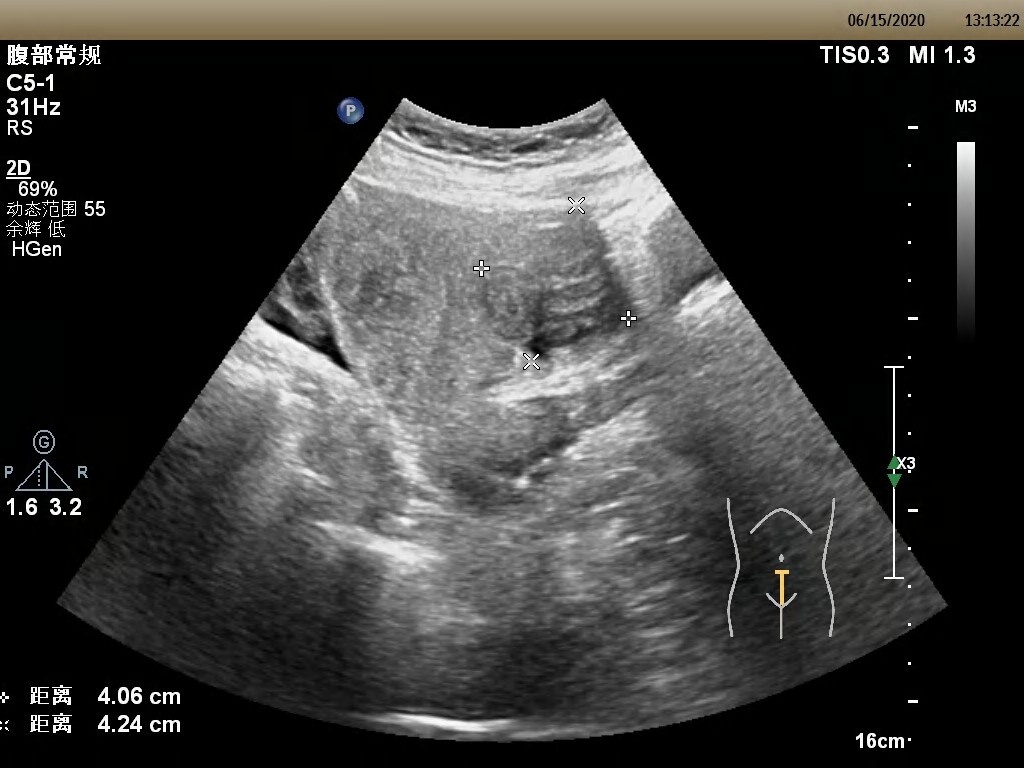肌瘤: (481, 207, 630, 361)
